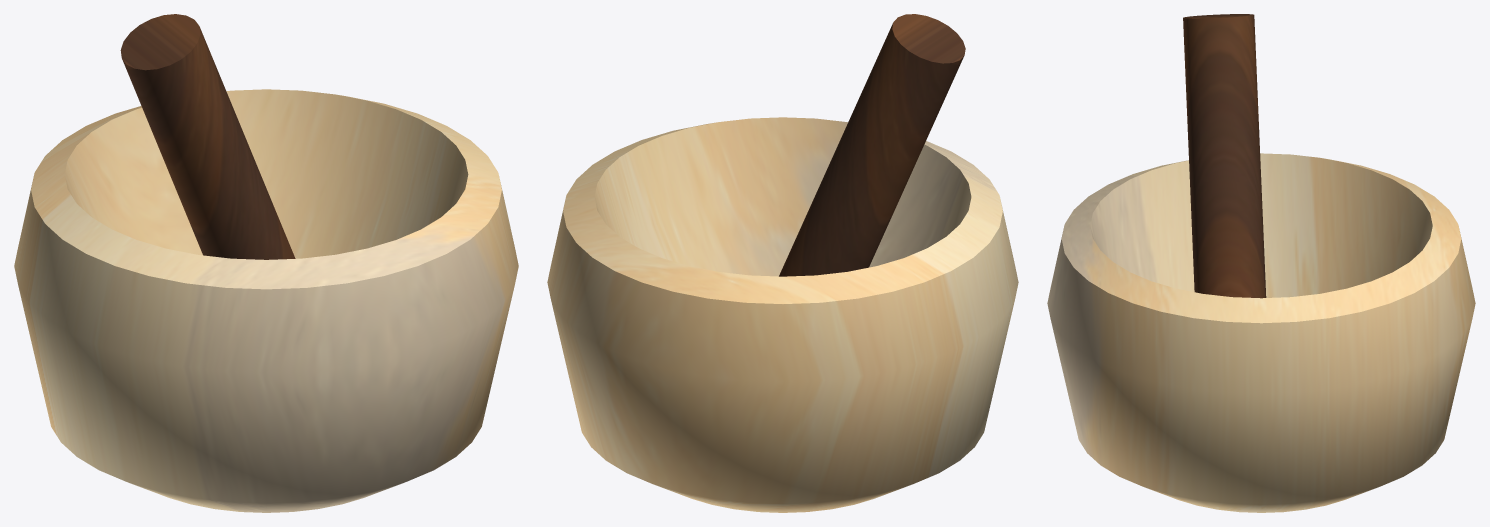
File: CM_AF01_MortarPestle.fbx
The picture shows the model from 3 angles, left to right: view 1: azimuth 30°, elevation 25°; view 2: azimuth 150°, elevation 25°; view 3: azimuth 270°, elevation 25°; orthographic projection. The views are drawn at different scales.
Visible parts, largest first — view 1: CM_AF01_MortarPestle; view 2: CM_AF01_MortarPestle; view 3: CM_AF01_MortarPestle.
Part boxes in pixels (bbox=[...]): CM_AF01_MortarPestle: bbox=[14, 14, 518, 512]; CM_AF01_MortarPestle: bbox=[547, 14, 1018, 512]; CM_AF01_MortarPestle: bbox=[1047, 14, 1475, 512].
Size of the model in its own units: 0.3 by 0.3094 by 0.3.
